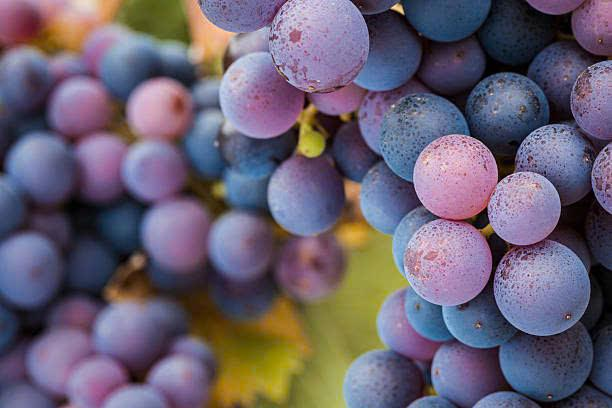grape: (378, 2, 612, 180), (380, 297, 612, 408), (385, 134, 506, 241), (250, 1, 386, 90), (388, 221, 510, 309), (459, 67, 578, 151), (261, 135, 363, 232), (495, 244, 591, 330)
